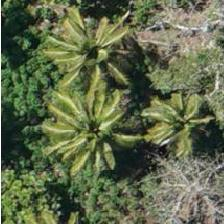Kelapa_Sawit: (47, 91, 137, 181), (46, 6, 136, 96), (135, 79, 224, 169)
